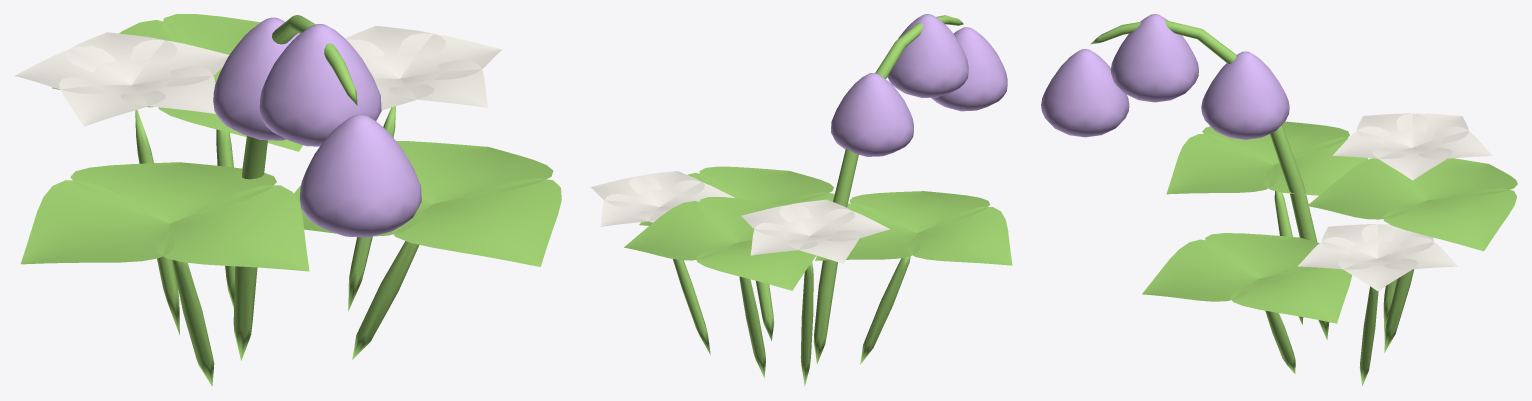
File: SM_Forest_FlowerCluster.fbx
3 views of the same model, side by side, from view 1: azimuth 30°, elevation 25°; view 2: azimuth 150°, elevation 25°; view 3: azimuth 270°, elevation 25° (orthographic). The views are drawn at different scales.
Parts seen in each view (by area): view 1: SM_Forest_FlowerCluster; view 2: SM_Forest_FlowerCluster; view 3: SM_Forest_FlowerCluster.
Part boxes in pixels (x1,y1,x2,y2): SM_Forest_FlowerCluster: (14,14,561,386); SM_Forest_FlowerCluster: (590,14,1012,386); SM_Forest_FlowerCluster: (1041,14,1517,386).
Bounding box in the file's own units: 131 × 99.46 × 137.
